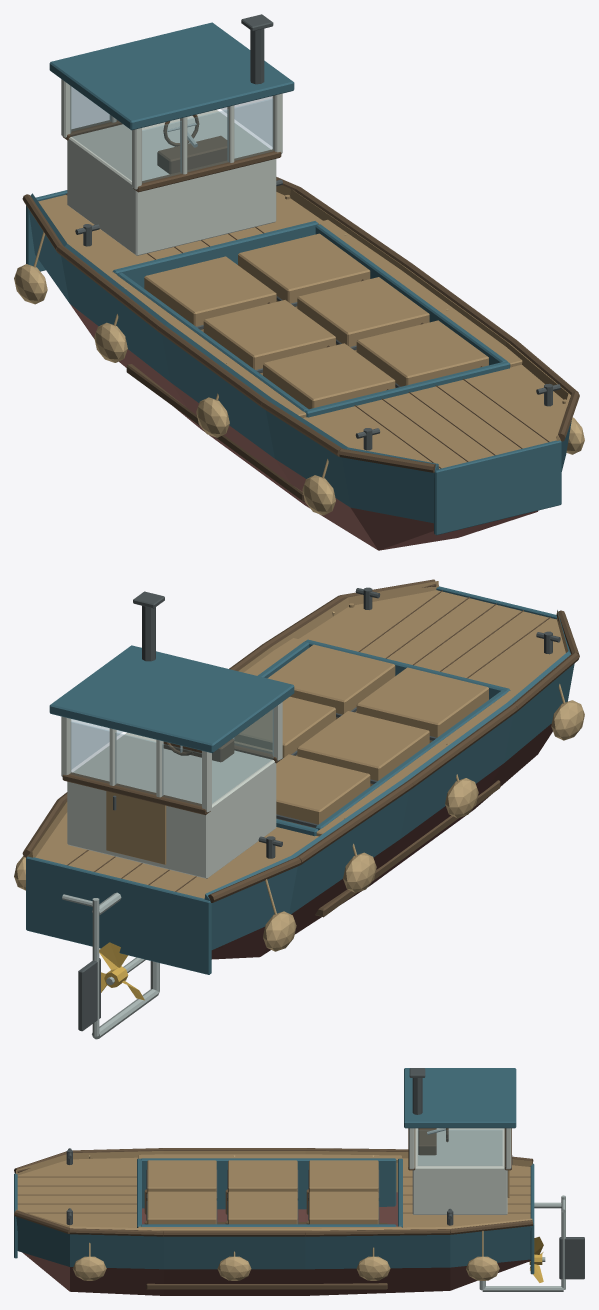
File: river-barge.glb
3 renders of one model, top to bottom at view 1: azimuth 30°, elevation 25°; view 2: azimuth 150°, elevation 25°; view 3: azimuth 270°, elevation 25°, orthographic. The views are drawn at different scales.
Visible parts, largest first — view 1: VesselRoot_mesh, Cargo.005_mesh, Cargo.004_mesh, Cargo.002_mesh, Cargo.003_mesh, Cargo.001_mesh, Cargo_mesh; view 2: VesselRoot_mesh, Cargo.002_mesh, Cargo_mesh, Cargo.001_mesh, Cargo.004_mesh, Cargo.003_mesh, Rudder_mesh, Propeller_mesh; view 3: VesselRoot_mesh, Cargo.001_mesh, Cargo.003_mesh, Cargo.005_mesh, Cargo_mesh, Cargo.002_mesh, Cargo.004_mesh, Rudder_mesh, Propeller_mesh.
Part boxes in pixels (x1,y1,x2,y2): VesselRoot_mesh: (14, 14, 584, 550); Cargo.005_mesh: (238, 233, 370, 308); Cargo.004_mesh: (144, 256, 276, 331); Cargo.002_mesh: (203, 300, 335, 375); Cargo.003_mesh: (297, 277, 429, 351); Cargo.001_mesh: (356, 320, 488, 387); Cargo_mesh: (263, 343, 395, 409); VesselRoot_mesh: (14, 579, 584, 1039); Cargo.002_mesh: (297, 711, 429, 786); Cargo_mesh: (356, 667, 488, 742); Cargo.001_mesh: (267, 644, 395, 719); Cargo.004_mesh: (276, 754, 370, 828); Cargo.003_mesh: (234, 696, 335, 759); Rudder_mesh: (62, 894, 100, 1036); Propeller_mesh: (99, 942, 144, 1000); VesselRoot_mesh: (14, 1068, 563, 1295); Cargo.001_mesh: (144, 1191, 217, 1224); Cargo.003_mesh: (225, 1191, 298, 1224); Cargo.005_mesh: (306, 1191, 379, 1224); Cargo_mesh: (144, 1160, 217, 1214); Cargo.002_mesh: (225, 1160, 298, 1214); Cargo.004_mesh: (306, 1160, 379, 1214); Rudder_mesh: (559, 1195, 584, 1289); Propeller_mesh: (529, 1236, 543, 1282).
Bounding box in the file's own units: 1.5 × 1.86 × 4.02.
